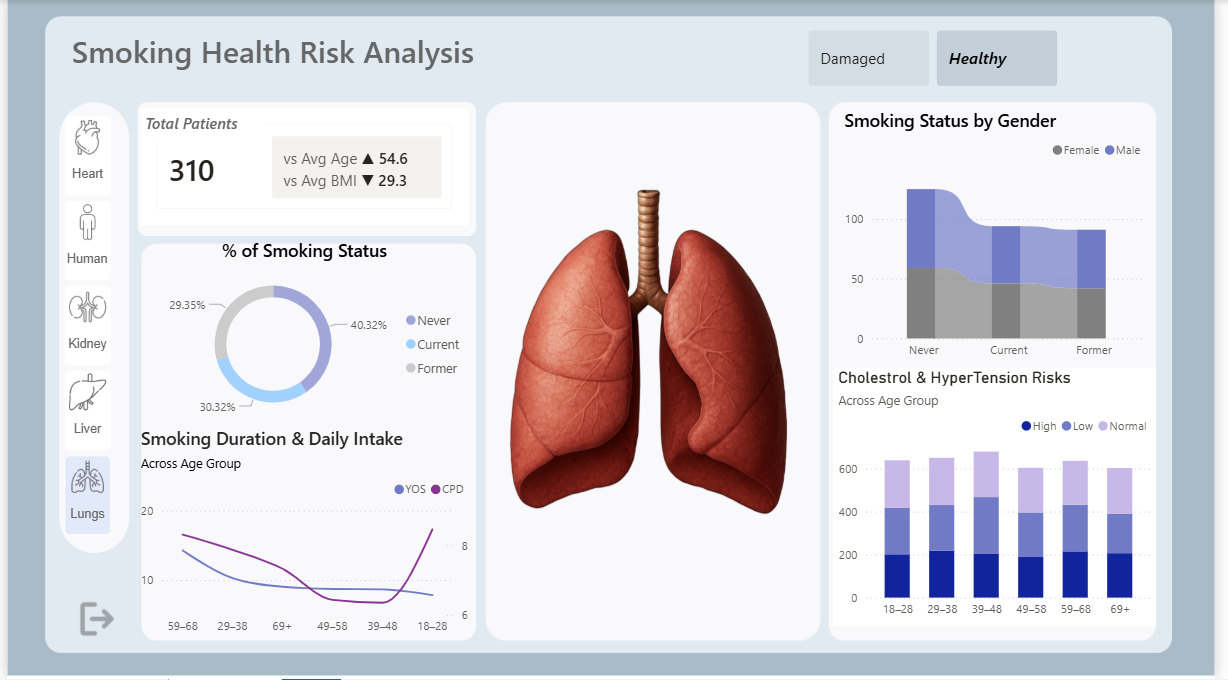

What the dashboard file says about the page in this screenshot:
{"tool":"powerbi","page":{"name":"Page 1","canvas":[1280,720],"ordinal":0},"visuals":[{"type":"cardVisual","fields":{"Data":["CountNonNull(health_dataset.Patient_ID)"]},"box":[141.7,115.3,347.7,124.7],"z":0},{"type":"textbox","box":[141.7,115.3,132.3,35.9],"z":1000},{"type":"advancedSlicerVisual","fields":{"Values":["condition.Organ_Condition"]},"box":[844.7,26.5,275.9,69.9],"z":2000},{"type":"ChicletSlicer1448559807354","fields":{"Category":["Organs.Organ"],"Image":["Organs.Icon_URL"]},"box":[52.9,115.3,88.8,480],"z":3000},{"type":"image","box":[517.8,115.3,326.9,548],"z":4000},{"type":"donutChart","title":"% of Smoking Status","fields":{"Category":["health_dataset.Smoking_Status"],"Y":["CountNonNull(health_dataset.Smoking_Status)"]},"box":[136.1,253.2,357.2,198.4],"z":5000},{"type":"lineChart","title":"Smoking Duration & Daily Intake","fields":{"Category":["health_dataset.Age Group"],"Y":["Avg(health_dataset.Years_of_Smoking)"],"Y2":["Avg(health_dataset.Cigarettes_Per_Day)"]},"box":[136.1,451.7,357.2,230.6],"z":6000},{"type":"ribbonChart","title":"Smoking Status by Gender","fields":{"Category":["health_dataset.Smoking_Status"],"Y":["CountNonNull(health_dataset.Patient_ID)"],"Series":["health_dataset.Gender"]},"box":[882.5,115.3,328.8,274],"z":7000},{"type":"columnChart","title":"Cholestrol & HyperTension Risks","fields":{"Category":["health_dataset.Age Group"],"Y":["Avg(health_dataset.Cholesterol_Level)"],"Series":["health_dataset.BP_Risk"]},"box":[876.9,389.3,342,274],"z":8000},{"type":"textbox","box":[64.3,26.5,500.8,69.9],"z":8001}]}

Visuals, with their boxes in screenshot pixels (x1, y1, x2, y2), scaled from the page's 1280x720 canvas onto the 1228x680 screenshot:
cardVisual - CountNonNull(health_dataset.Patient_ID): BBox(136, 109, 470, 227)
textbox: BBox(136, 109, 263, 143)
advancedSlicerVisual - condition.Organ_Condition: BBox(810, 25, 1075, 91)
ChicletSlicer1448559807354 - Organs.Organ x Organs.Icon_URL: BBox(51, 109, 136, 562)
image: BBox(497, 109, 810, 626)
"% of Smoking Status" donutChart: BBox(131, 239, 473, 427)
"Smoking Duration & Daily Intake" lineChart: BBox(131, 427, 473, 644)
"Smoking Status by Gender" ribbonChart: BBox(847, 109, 1162, 368)
"Cholestrol & HyperTension Risks" columnChart: BBox(841, 368, 1169, 626)
textbox: BBox(62, 25, 542, 91)
